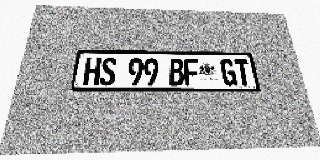9: (128, 58, 143, 86), (144, 58, 159, 86)
B: (169, 58, 185, 86)
F: (183, 58, 200, 86)
G: (220, 59, 238, 86)
H: (83, 57, 101, 86)
S: (99, 57, 117, 86)
T: (234, 59, 252, 86)
